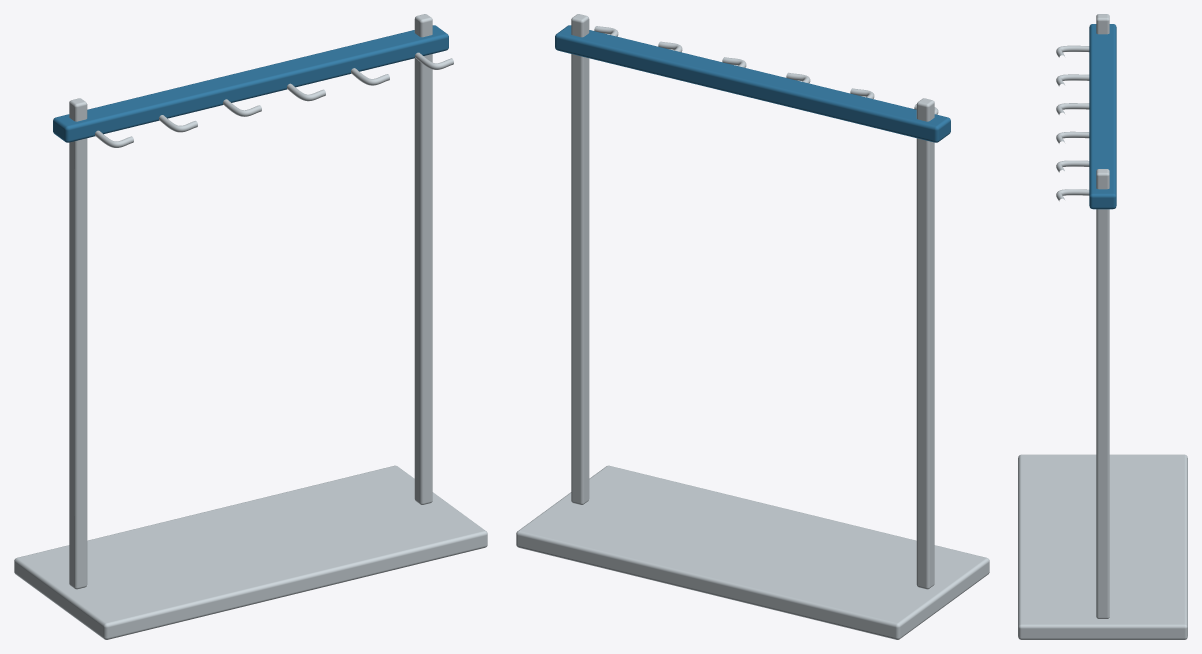
Rendered from curling-club-and-ice-maintenance-broom-drying-rack-77c49222__31275.glb.
The picture shows the model from 3 angles, left to right: view 1: azimuth 30°, elevation 25°; view 2: azimuth 150°, elevation 25°; view 3: azimuth 270°, elevation 25°; orthographic projection. The views are drawn at different scales.
Parts seen in each view (by area): view 1: broom-drying-rack; view 2: broom-drying-rack; view 3: broom-drying-rack.
Part boxes in pixels (x1,y1,x2,y2): broom-drying-rack: (14, 14, 487, 639); broom-drying-rack: (516, 14, 989, 639); broom-drying-rack: (1018, 14, 1187, 639).
Bounding box in the file's own units: 1.2 × 1.5 × 0.4999.
